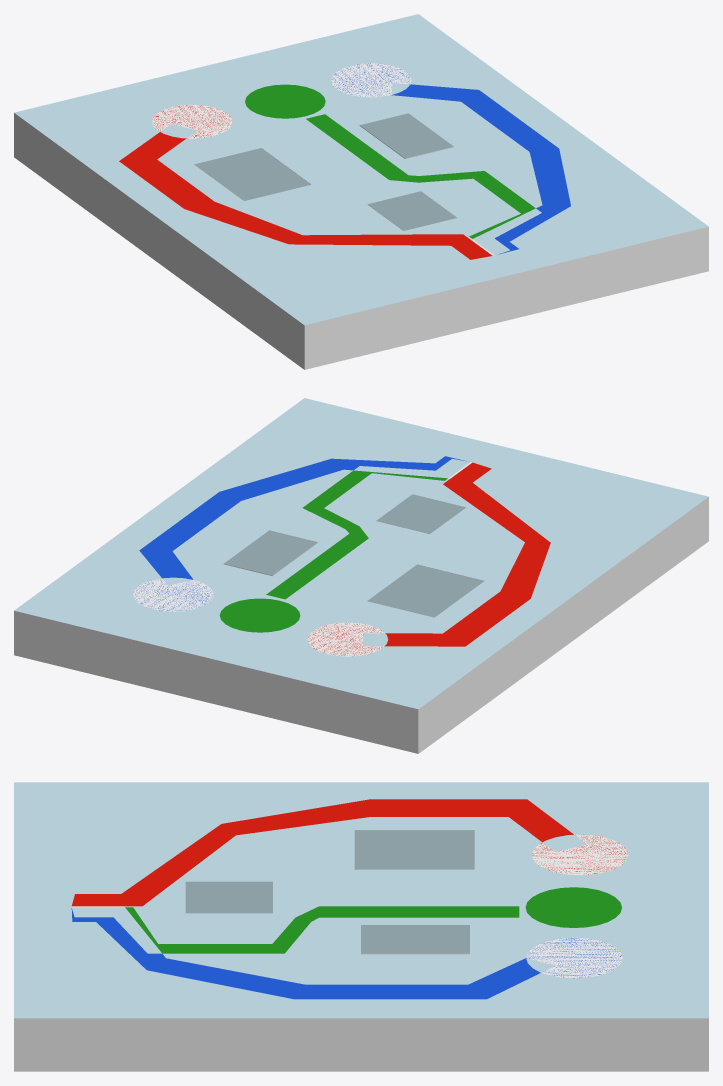
Rendered from paths.dae.
3 renders of one model, top to bottom at view 1: azimuth 30°, elevation 25°; view 2: azimuth 150°, elevation 25°; view 3: azimuth 270°, elevation 25°, orthographic. The views are drawn at different scales.
Parts seen in each view (by area): view 1: SketchUp (×12); view 2: SketchUp (×12); view 3: SketchUp (×13).
Boxes of the visible parts, box(x1,y1,x2,y2) form: SketchUp (×12): box(14, 14, 708, 369); SketchUp (×12): box(14, 398, 708, 753); SketchUp (×13): box(14, 782, 708, 1071).
Size of the model in its own units: 204 by 254 by 21.88.
